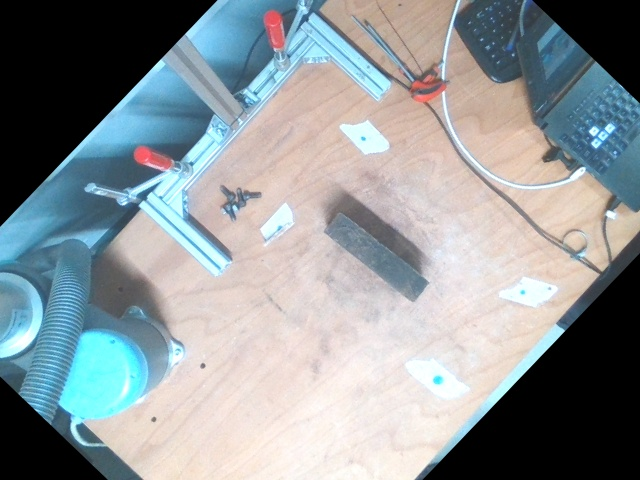brick-side: (326, 212, 431, 301)
